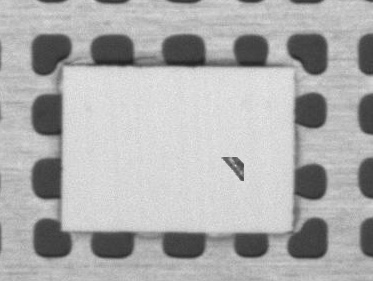DIE_INK: (220, 153, 248, 185)
